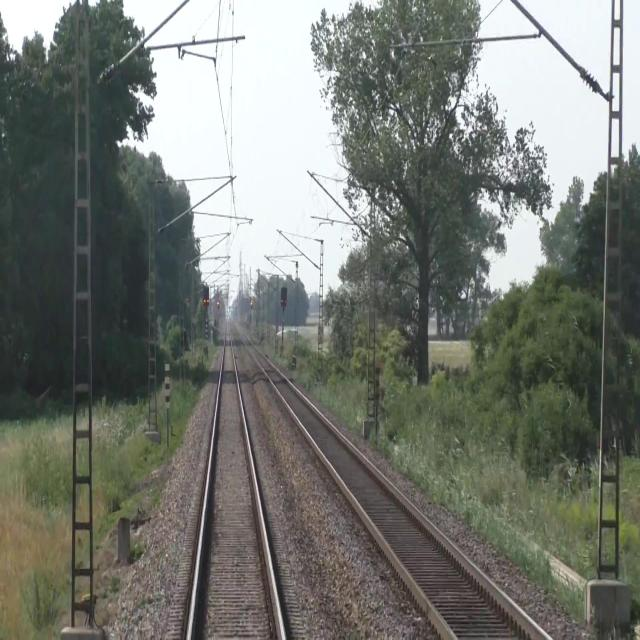rail-track: (239, 327, 545, 639), (191, 325, 281, 639)
